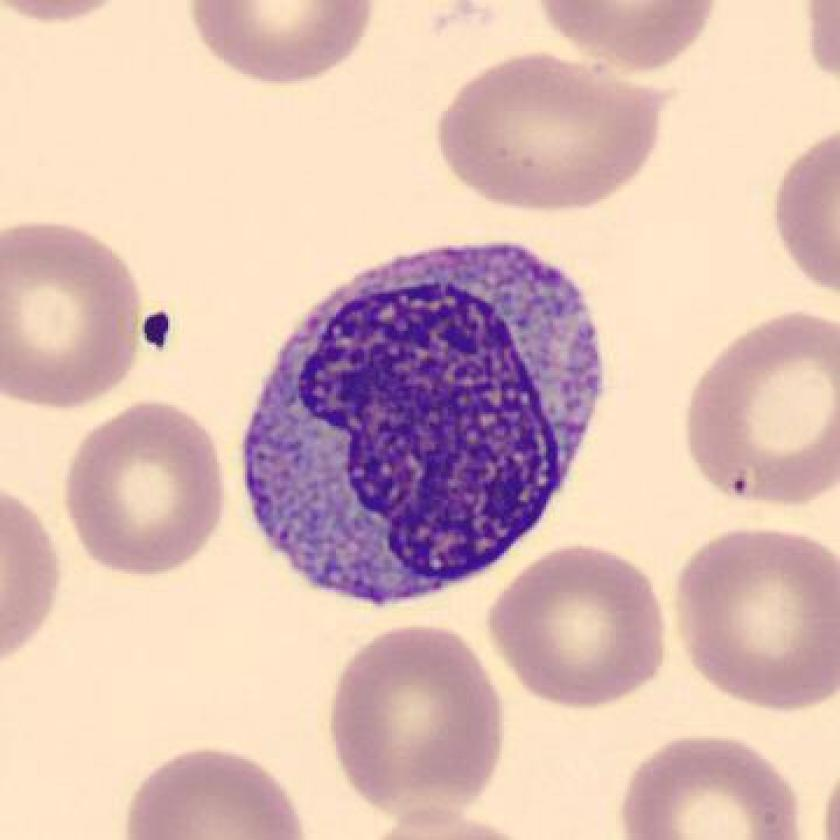monocyte: (227, 230, 615, 626)
